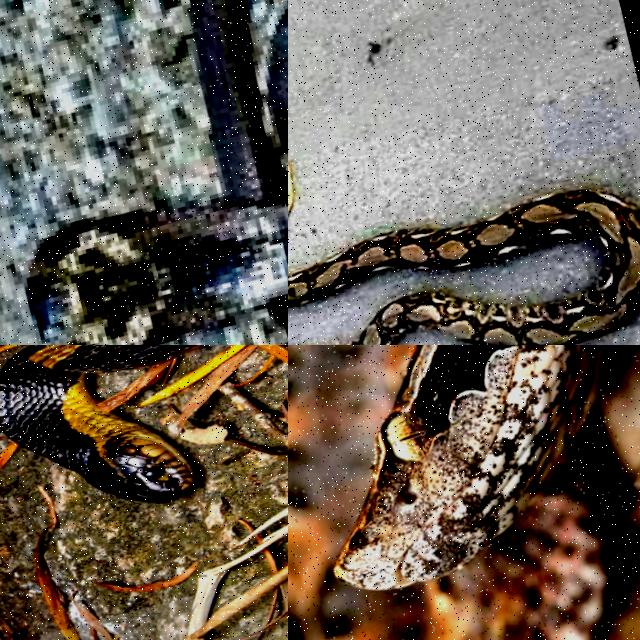Bungarus fasciatus: (0, 345, 199, 501)
Calloselasma rhodostoma: (288, 345, 607, 639)
Malayopython reticulatus: (288, 190, 639, 344)
Naja kaouthia: (25, 0, 287, 344)
